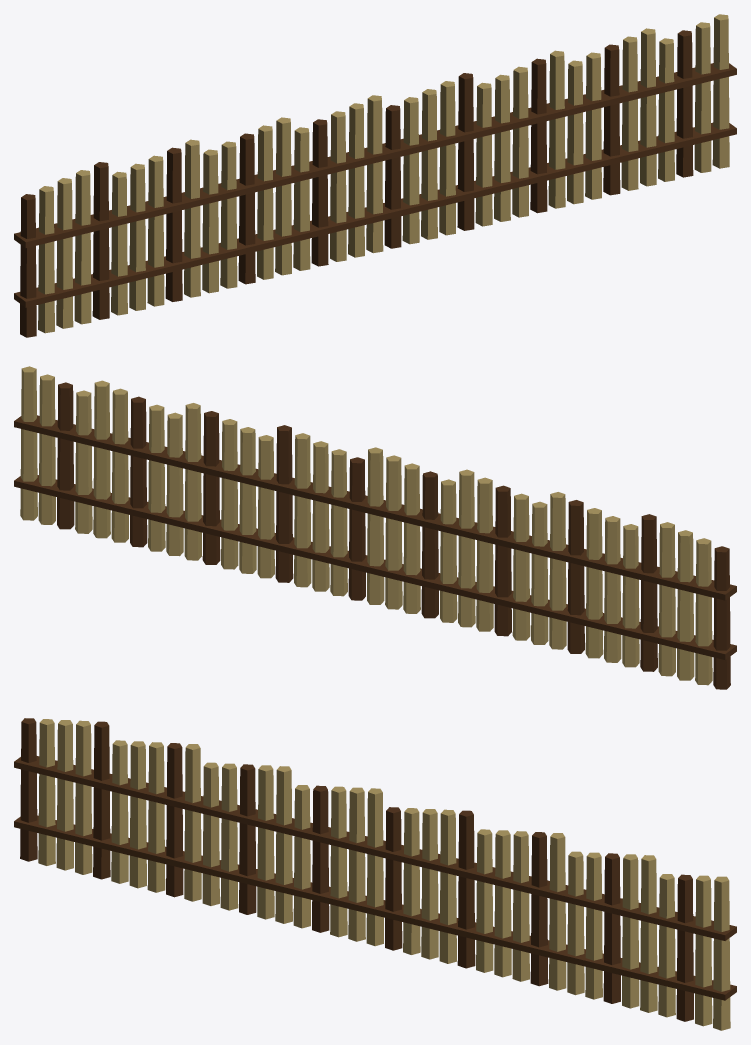
Rendered from elephant_wall_broken.glb.
The picture shows the model from 3 angles, top to bottom: view 1: azimuth 30°, elevation 25°; view 2: azimuth 150°, elevation 25°; view 3: azimuth 330°, elevation 25°; orthographic projection.
Parts seen in each view (by area): view 1: elephant_wall_piece5, elephant_wall_piece4, elephant_wall_piece13, elephant_wall_piece1, elephant_wall_piece2, elephant_wall_piece0, elephant_wall_piece3, elephant_wall_piece7, elephant_wall_piece9, elephant_wall_piece10, elephant_wall_piece8, elephant_wall_piece12 (+2 smaller); view 2: elephant_wall_piece13, elephant_wall_piece1, elephant_wall_piece4, elephant_wall_piece2, elephant_wall_piece3, elephant_wall_piece5, elephant_wall_piece6, elephant_wall_piece9, elephant_wall_piece0, elephant_wall_piece8, elephant_wall_piece11, elephant_wall_piece10 (+2 smaller); view 3: elephant_wall_piece13, elephant_wall_piece4, elephant_wall_piece5, elephant_wall_piece1, elephant_wall_piece2, elephant_wall_piece0, elephant_wall_piece3, elephant_wall_piece7, elephant_wall_piece9, elephant_wall_piece10, elephant_wall_piece8, elephant_wall_piece12 (+2 smaller).
Part boxes in pixels (x1,y1,x2,y2): elephant_wall_piece5: (14, 162, 128, 337); elephant_wall_piece4: (333, 81, 454, 261); elephant_wall_piece13: (608, 14, 736, 172); elephant_wall_piece1: (111, 133, 252, 315); elephant_wall_piece2: (198, 117, 327, 296); elephant_wall_piece0: (590, 46, 693, 195); elephant_wall_piece3: (486, 50, 608, 194); elephant_wall_piece7: (443, 73, 535, 235); elephant_wall_piece9: (307, 95, 400, 216); elephant_wall_piece10: (257, 171, 357, 279); elephant_wall_piece8: (90, 145, 191, 270); elephant_wall_piece12: (511, 126, 601, 217); elephant_wall_piece13: (14, 366, 137, 529); elephant_wall_piece1: (496, 486, 638, 667); elephant_wall_piece4: (286, 433, 420, 613); elephant_wall_piece2: (422, 469, 549, 644); elephant_wall_piece3: (126, 403, 261, 547); elephant_wall_piece5: (629, 514, 736, 689); elephant_wall_piece6: (216, 453, 339, 595); elephant_wall_piece9: (350, 447, 446, 581); elephant_wall_piece0: (70, 396, 167, 544); elephant_wall_piece8: (565, 494, 663, 632); elephant_wall_piece11: (619, 574, 705, 684); elephant_wall_piece10: (400, 531, 493, 631); elephant_wall_piece13: (614, 853, 736, 1030); elephant_wall_piece4: (330, 808, 458, 959); elephant_wall_piece5: (14, 718, 121, 870); elephant_wall_piece1: (112, 744, 254, 900); elephant_wall_piece2: (190, 765, 327, 914); elephant_wall_piece0: (579, 853, 685, 1021); elephant_wall_piece3: (489, 830, 622, 995); elephant_wall_piece7: (433, 810, 523, 963); elephant_wall_piece9: (300, 786, 400, 894); elephant_wall_piece10: (247, 829, 351, 932); elephant_wall_piece8: (91, 740, 185, 845); elephant_wall_piece12: (505, 900, 602, 999).
Bounding box in the file's own units: 6.25 × 1.27 × 0.18.
